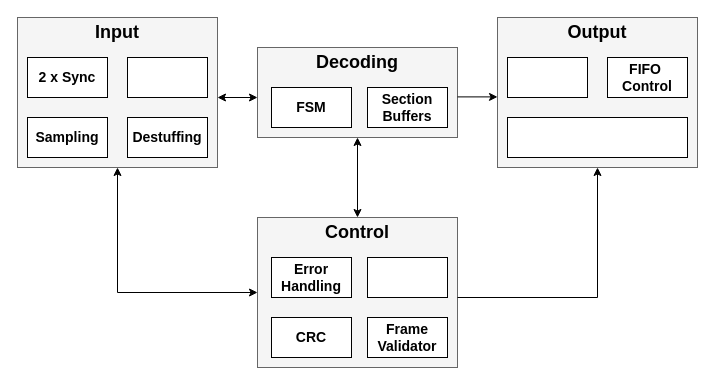
The diagram is 715 pixels wide and 385 high, and some of its shapes have lost their labels. The centre of each missing label's shape, as x and y in pixels:
"AXI4-Lite Slave" belongs at [597,137].
"FIFO" belongs at [547,77].
"Safe Start" belongs at [167,77].
"Timestamp" belongs at [407,277].
